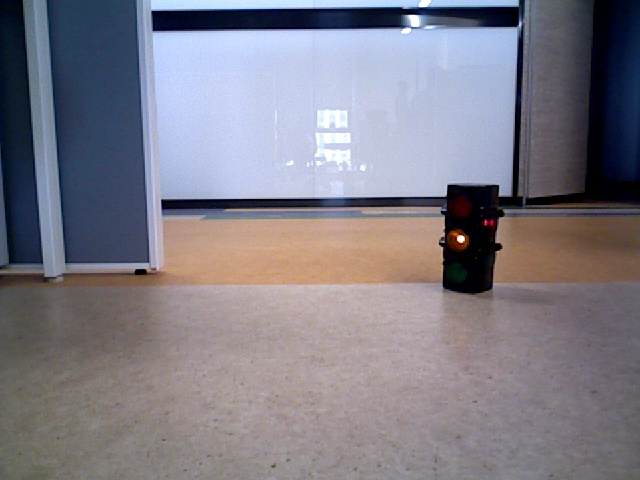yellow: (444, 184, 497, 291)
